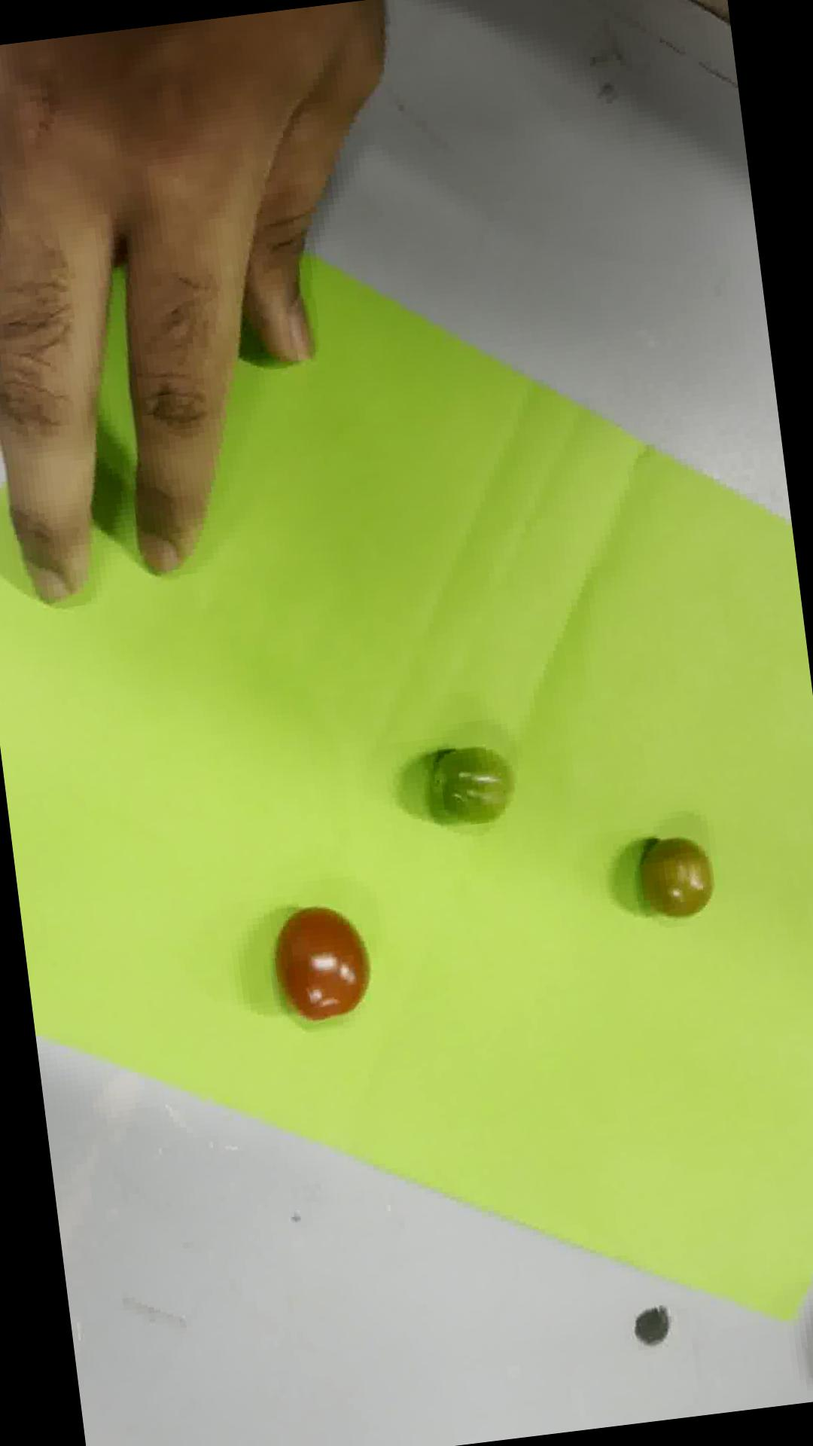green_cherry_tomato: (431, 746, 513, 823)
red_cherry_tomato: (275, 906, 369, 1021)
yellow_cherry_tomato: (640, 838, 713, 916)
